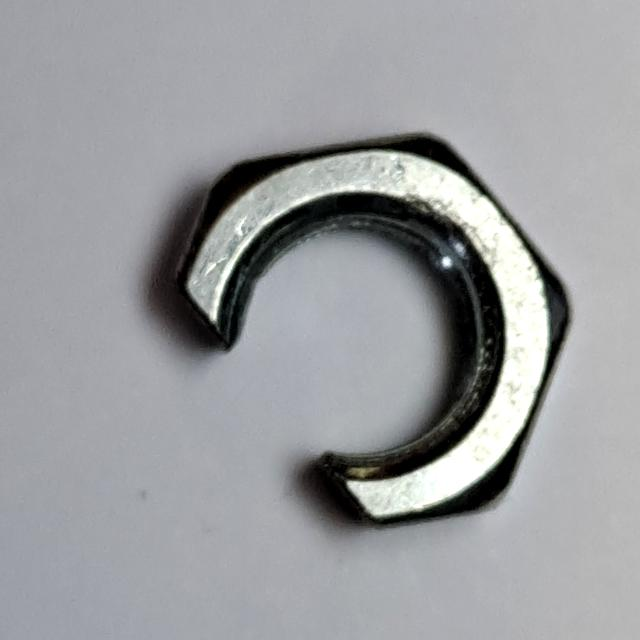Fracture: (160, 120, 581, 544)
